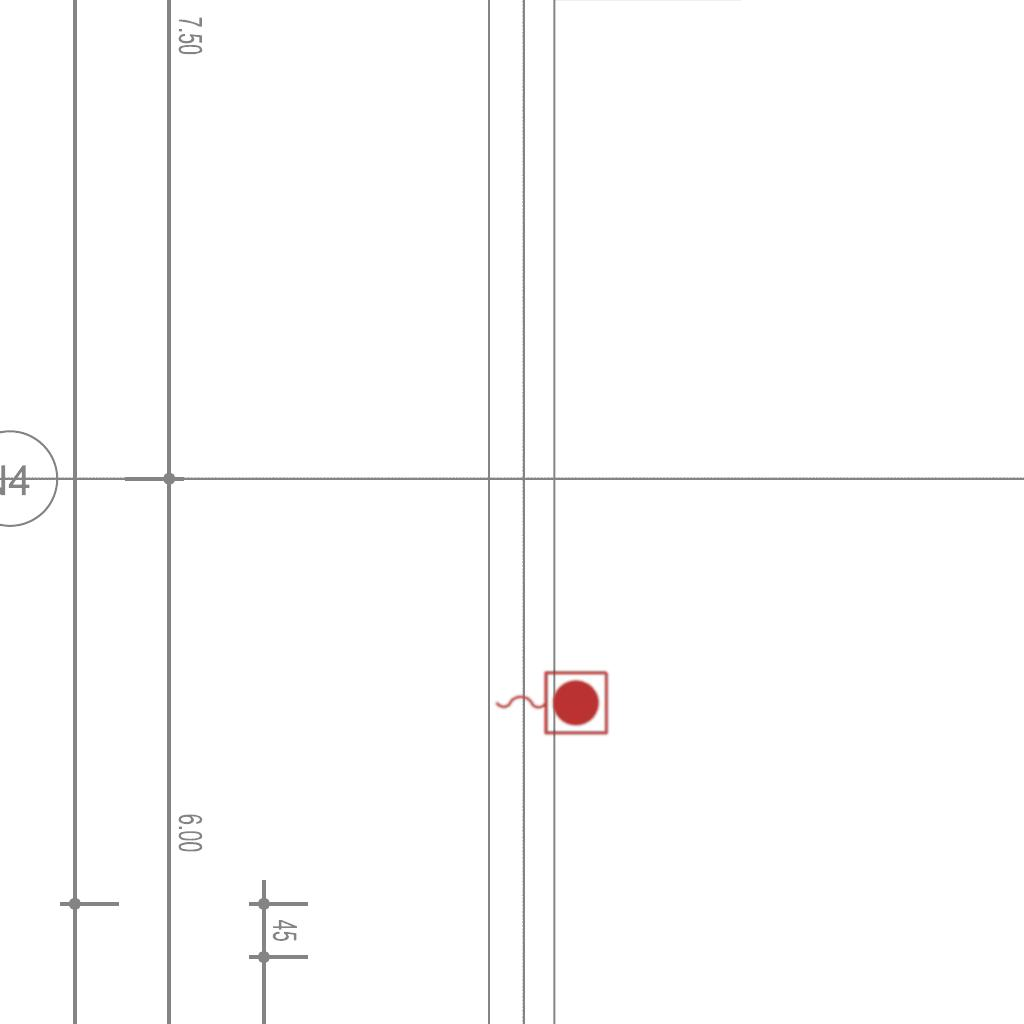Zugtaster: (490, 666, 612, 738)
